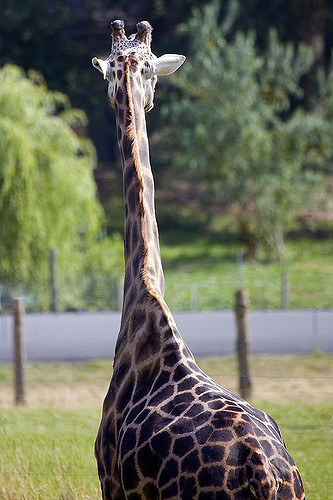giraffe: (72, 17, 306, 489)
